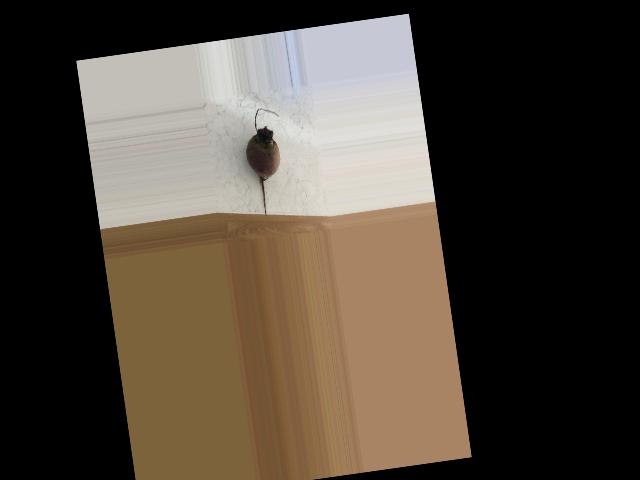beet: (240, 106, 292, 218)
